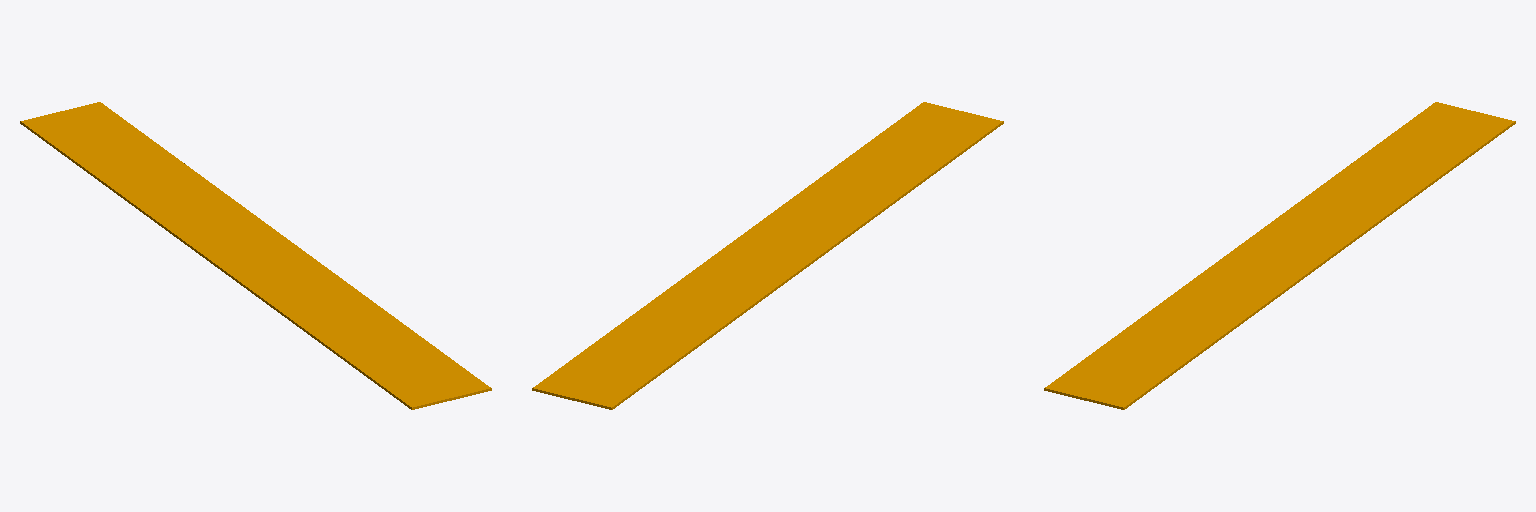
The robot description file, URDF, robot "street":
<robot name="street">
  <link name="street_link">
    <inertial>
      <origin xyz="0 0 0" rpy= "0 0 0" />
      <mass value="1.0" />
      <inertia  ixx="0.074166666667" ixy="0.0"  ixz="0.0"  iyy="0.0585416666666667"  iyz="0.0"  izz="0.026041666666667" />
    </inertial>
    <collision>
      <origin xyz="0 0 0"/>
      <geometry>
        <box size="1.0 8.5 0.04" />
      </geometry>
    </collision>

  
    

    <visual>
            <origin rpy="0.0 0 0" xyz="0 0 0.055"/>
            <geometry>
                <mesh filename="package://artags_opencv_course/meshes/street2.dae"/>
            </geometry>
            
    </visual>
  </link>
  <gazebo reference="street_link">
    <kp>100000.0</kp>
    <kd>100000.0</kd>
    <mu1>0.1</mu1>
    <mu2>0.1</mu2>
    <fdirl>1 0 0</fdirl>
  </gazebo>
</robot>
 

--- What the picture shows (computed from the rendered views, not written in the file) ---
3 views of the same robot in one strip: view 1: azimuth 30°, elevation 25°; view 2: azimuth 150°, elevation 25°; view 3: azimuth 330°, elevation 25° (orthographic).
Robot: street — 1 links, 0 joints (none); root link street_link; default pose: every joint at zero.
Links seen in each view (by area): view 1: street_link; view 2: street_link; view 3: street_link.
Boxes of the visible links, left/top/right/bottom form: street_link: left=20, top=102, right=491, bottom=409; street_link: left=532, top=102, right=1003, bottom=409; street_link: left=1044, top=102, right=1515, bottom=409.
Size in the robot's own frame: 1 by 8.5 by 0.03 metres.
Meshes: 1 distinct files referenced, 1 mesh visuals loaded (1 Collada DAE).